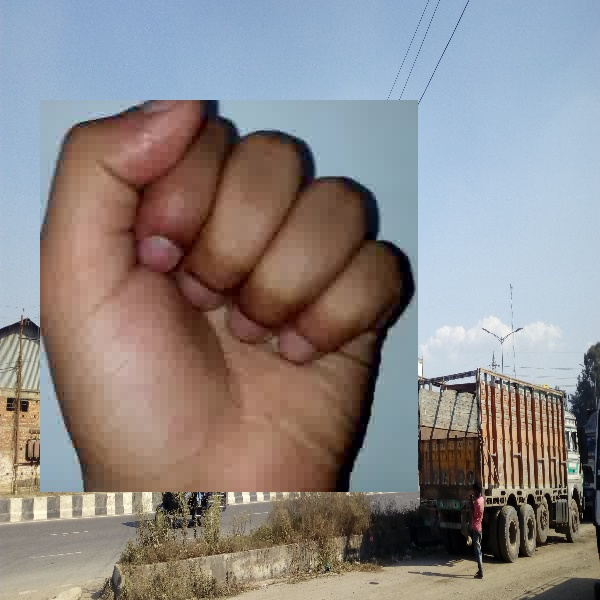A: (40, 100, 418, 492)
